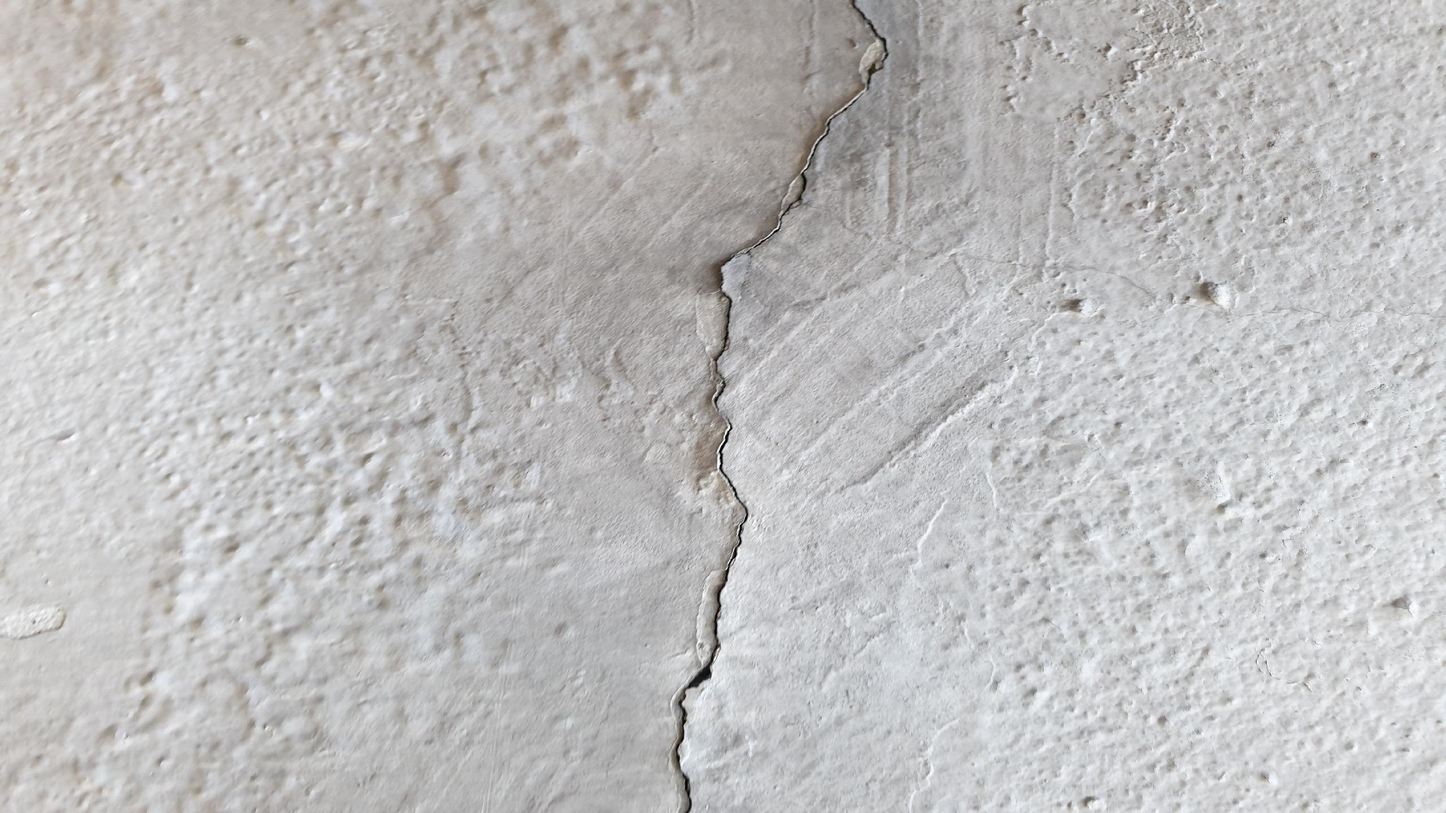crack: (668, 0, 887, 812)
